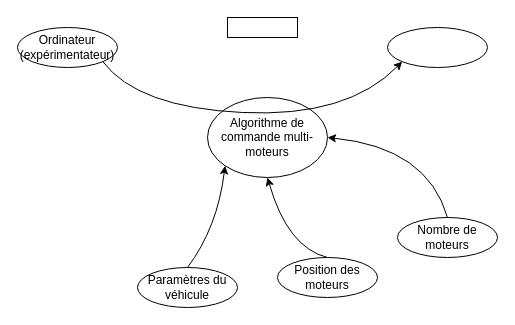
The diagram is 515 pixels wide and 325 high, and some of its shapes have lost their labels. The shapes that lost their labels are listed below. From the top down, each one's box as (x1, y1, x2, y2) in pixels, then its label:
(226, 16, 298, 38): Tests
(386, 26, 488, 68): Moteurs de la maquette
